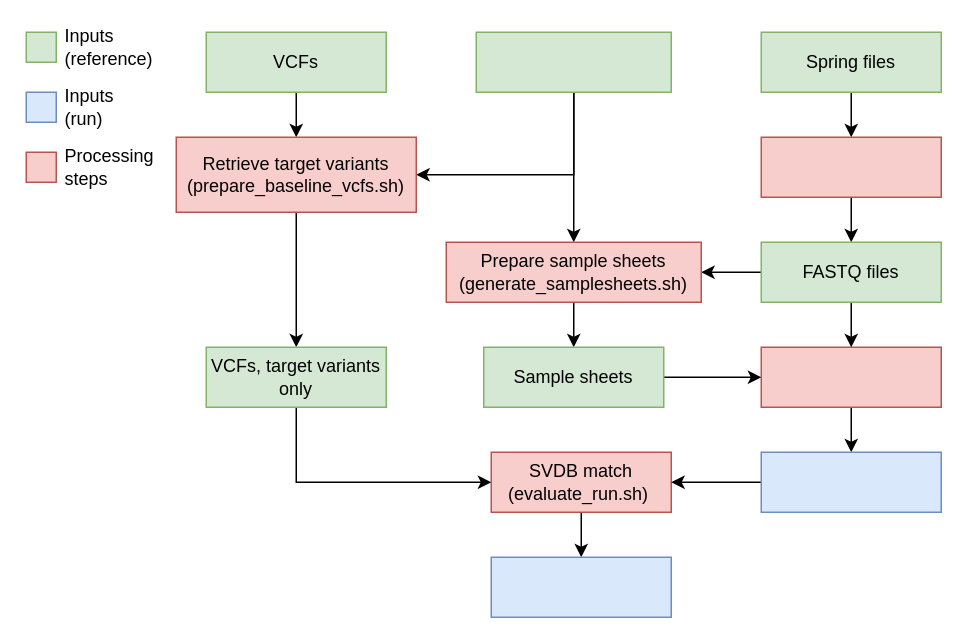
Image size: 968x644. Some labels were removed from this diagram. Each missing label, with the box of its shape:
Execute workflows (start_run.sh): (760, 346, 941, 407)
List manually curated samples + variants: (475, 31, 671, 92)
Match table: (490, 556, 671, 617)
Run SV VCFs: (760, 451, 941, 512)
Unspring (unspring_file.pl): (760, 136, 941, 197)
